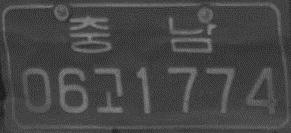0: (21, 66, 52, 115)
1: (129, 65, 159, 115)
4: (246, 66, 278, 115)
6: (57, 66, 88, 113)
7: (167, 66, 198, 114), (204, 67, 235, 113)
고: (92, 66, 124, 114)
충남_D: (68, 15, 216, 54)
